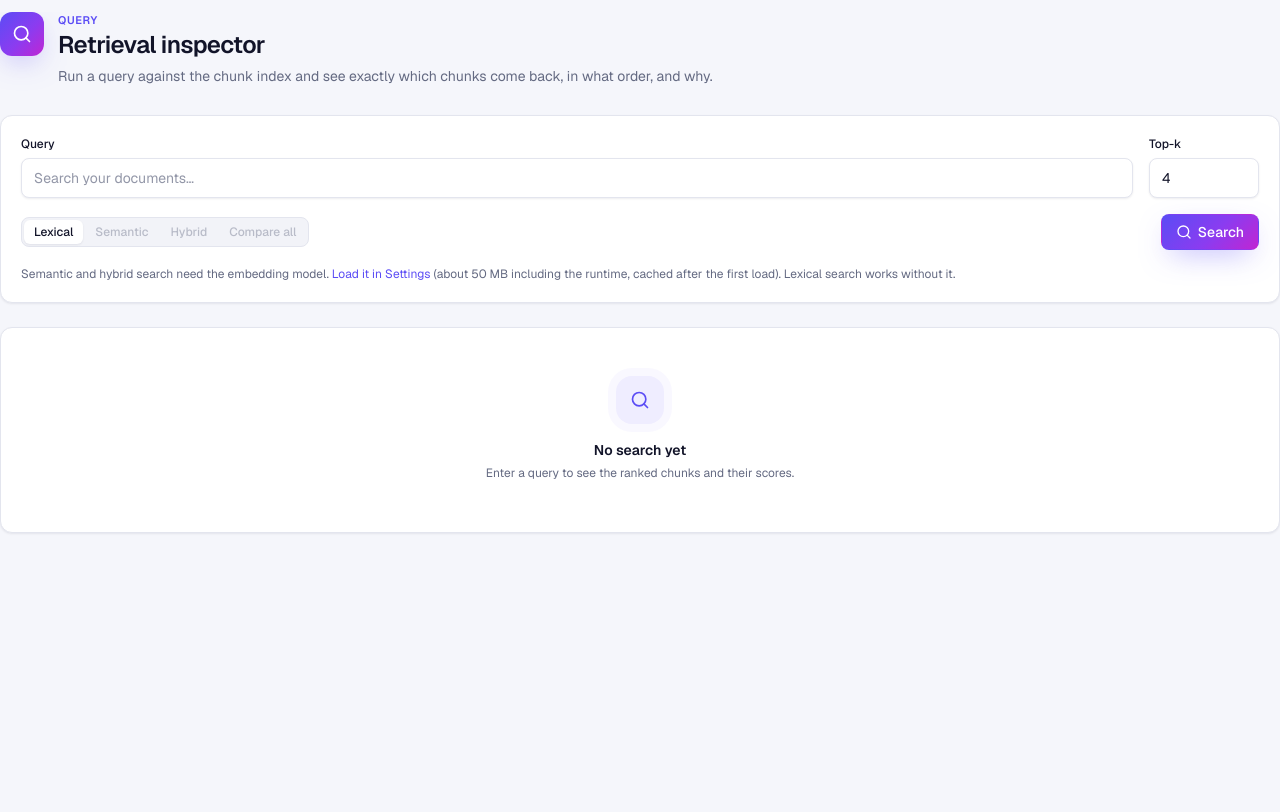
Test case: RetrievalView › shows an error for an empty query and an empty state for no matches
Check: the heading "Retrieval inspector" is shown, box [58, 28, 265, 60]
Click the button "Search" at (1210, 232), box [1161, 214, 1259, 250]
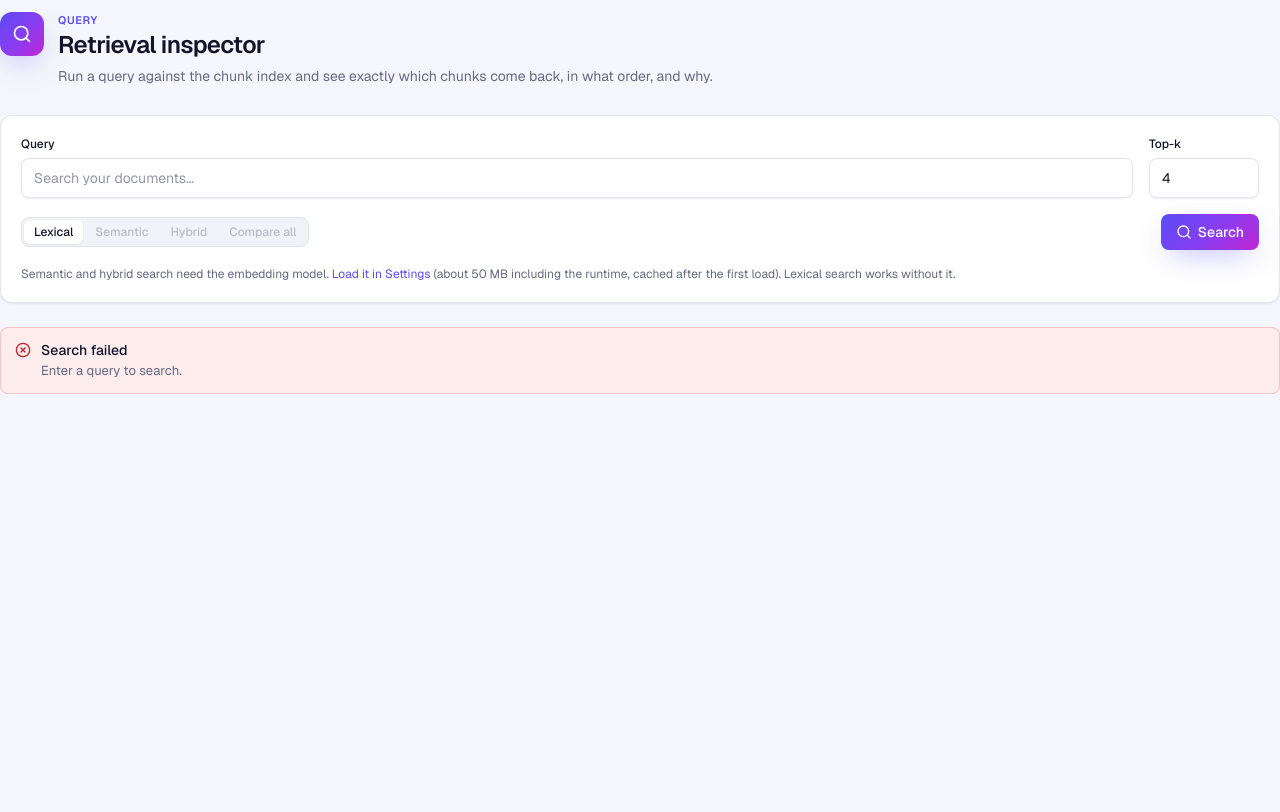
Check: the text "Enter a query to search." is shown, box [41, 362, 182, 381]
Type "quantum chromodynamics" into the field labelled "Query" at (577, 178), box [21, 158, 1133, 198]
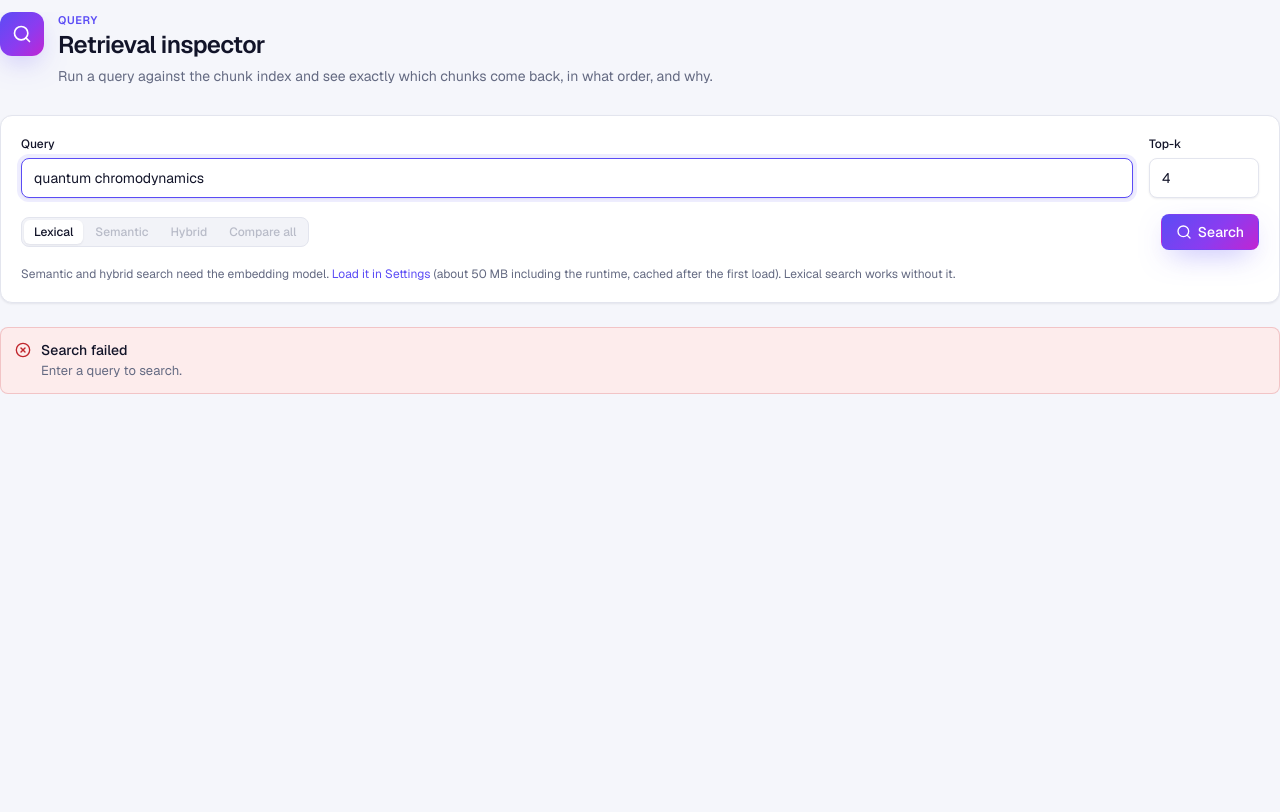
Click the button "Search" at (1210, 232), box [1161, 214, 1259, 250]
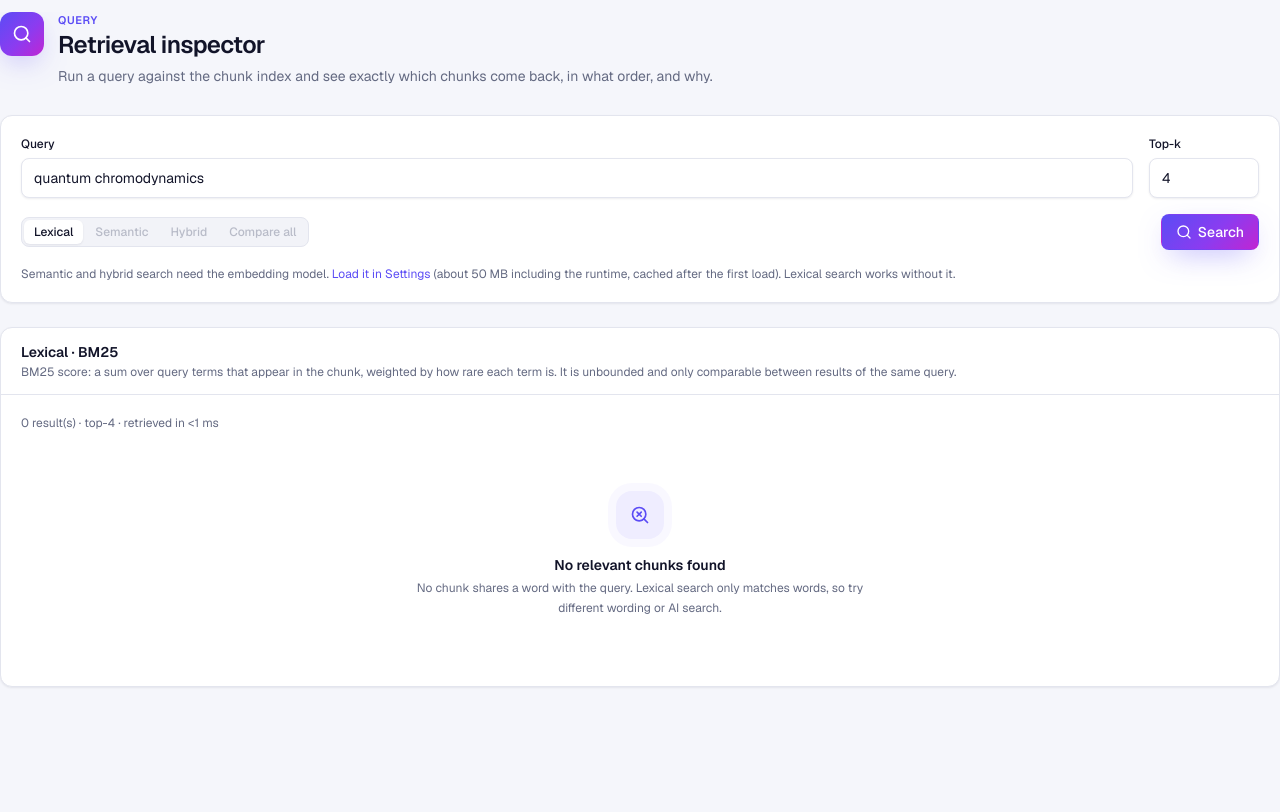
Check: the text "No relevant chunks found" is shown, box [554, 555, 726, 575]
